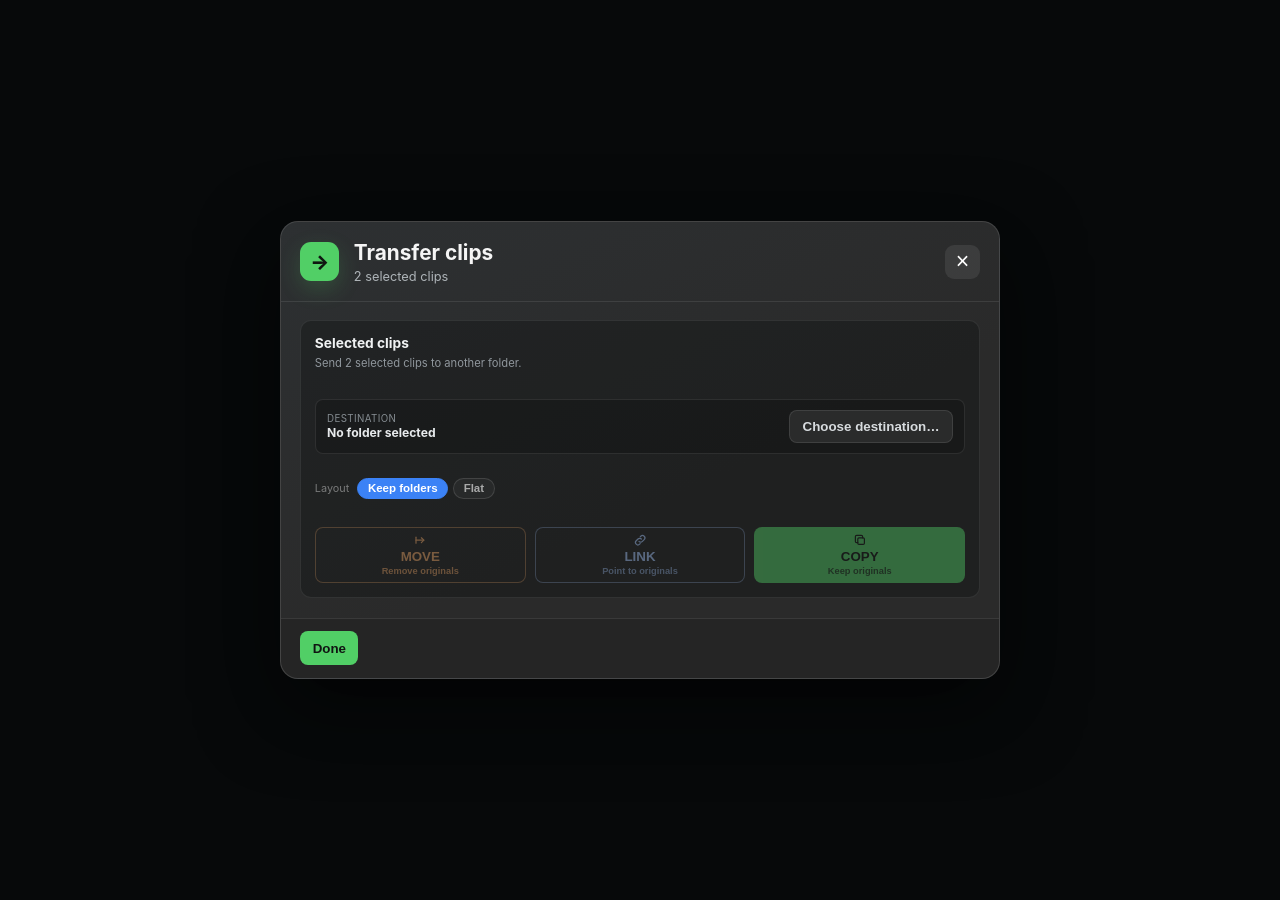
Test: TransferSelectionDialog › surfaces a preflight failure without opening a transfer
The image size is (1280, 900).
Click the button "Choose destination…".
click(871, 426)  # box x1=789 y1=410 x2=953 y2=443
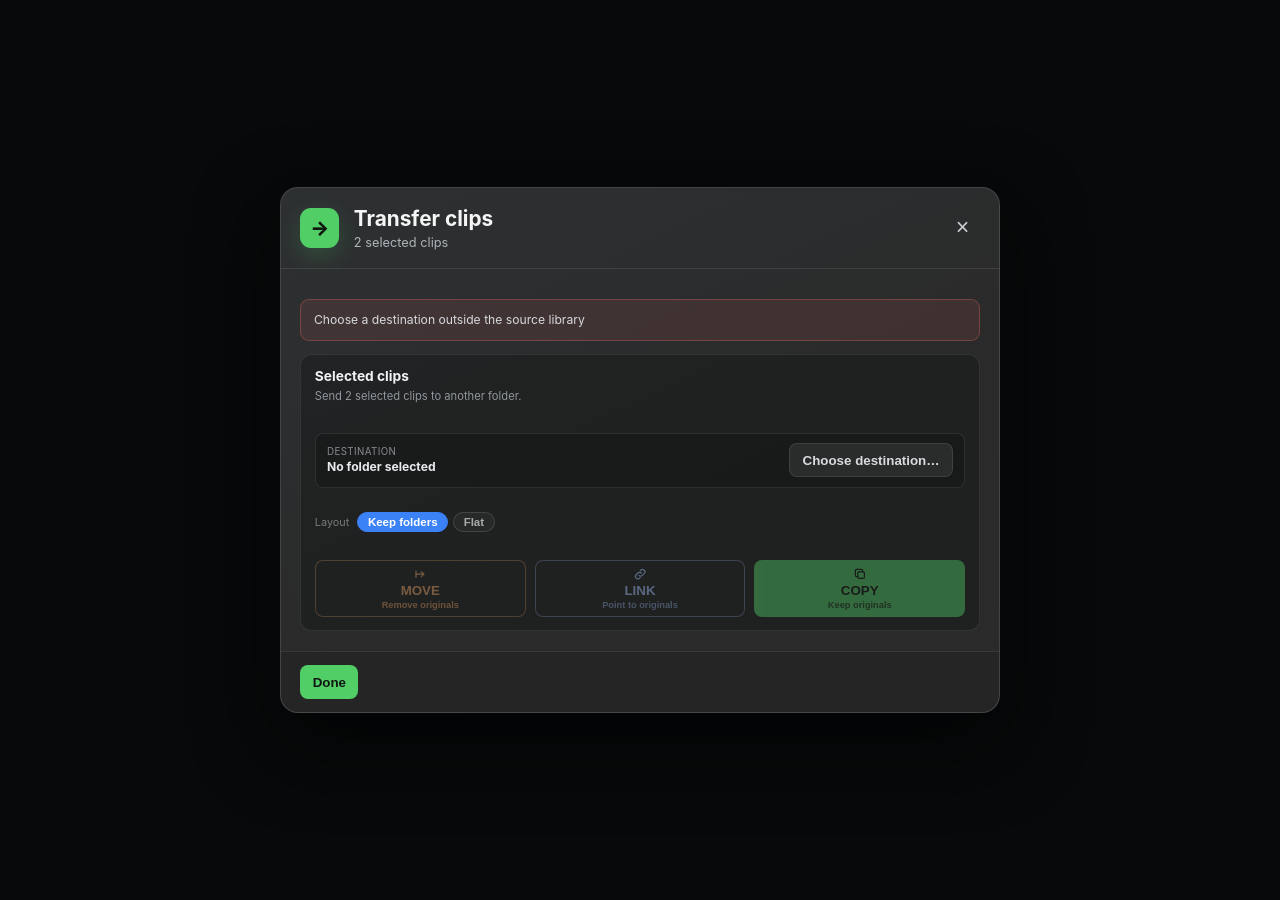
Check: the text "Choose a destination outside the source library" is shown, box x1=300 y1=299 x2=980 y2=341
